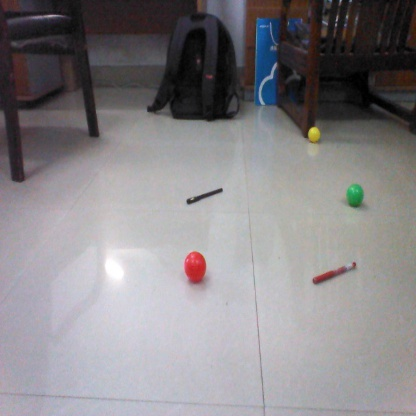ball: (180, 250, 209, 282), (346, 184, 368, 205), (308, 126, 320, 143)
pen: (310, 262, 358, 286), (184, 183, 226, 205)
